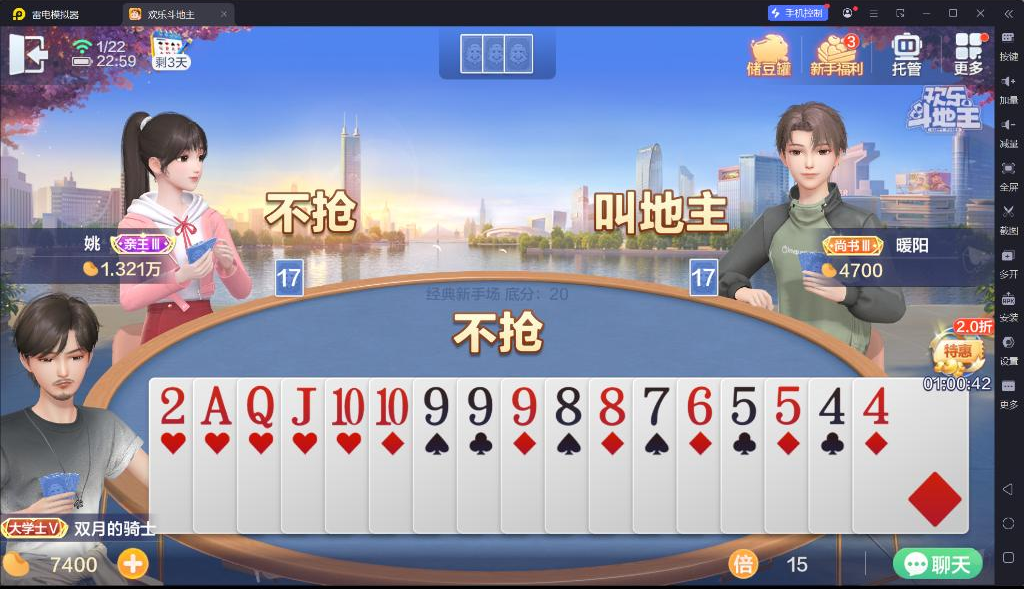A: (199, 383, 234, 426)
J: (286, 383, 318, 427)
Q: (243, 383, 277, 429)
eight: (595, 382, 628, 428), (551, 384, 585, 428)
five: (727, 381, 759, 427), (771, 382, 803, 428)
four: (815, 382, 849, 428), (861, 385, 892, 428)
nine: (419, 385, 452, 428), (507, 385, 539, 427), (463, 385, 495, 427)
seven: (639, 382, 670, 428)
six: (684, 381, 717, 426)
ten: (372, 384, 410, 428), (330, 384, 366, 428)
two: (157, 384, 188, 426)
